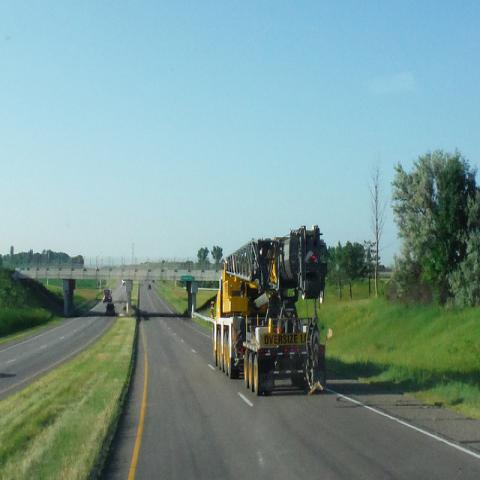car: (106, 303, 114, 316)
truck: (208, 266, 328, 392), (102, 288, 112, 303)
